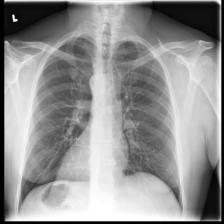normal: (14, 30, 187, 220)
